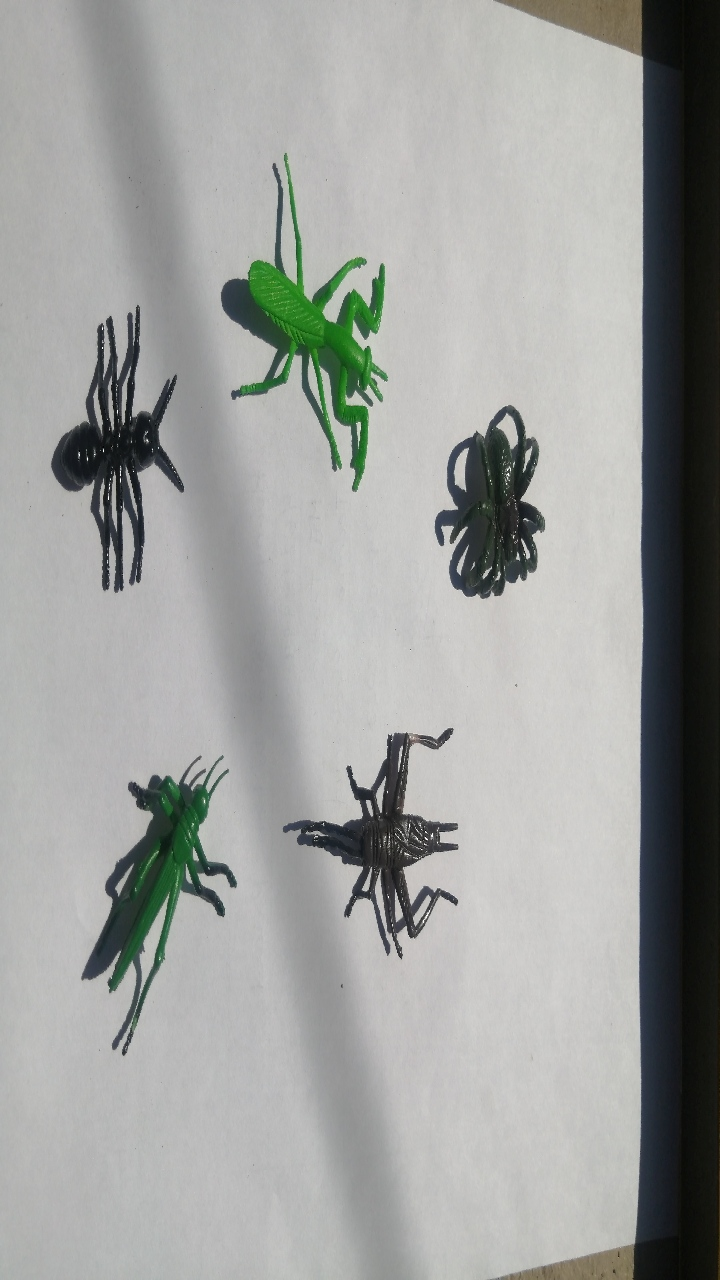intruso: (57, 732, 254, 1068), (268, 705, 484, 994), (220, 129, 388, 492), (35, 283, 192, 612), (423, 380, 563, 629)
